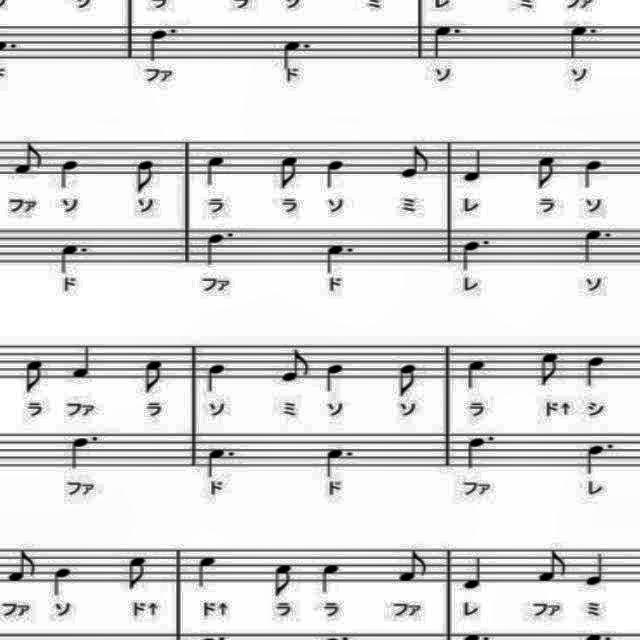Eighth-note: (394, 542, 434, 586), (4, 546, 40, 592), (12, 139, 50, 181), (278, 345, 314, 387), (536, 545, 570, 587), (21, 352, 49, 400), (274, 151, 306, 191), (394, 358, 424, 400), (398, 143, 430, 181), (535, 350, 565, 390), (132, 156, 160, 197), (124, 551, 148, 595), (532, 152, 558, 192), (271, 561, 297, 601), (142, 356, 166, 396)
Quarter-dot: (424, 19, 468, 65), (204, 222, 240, 272), (577, 224, 615, 270), (566, 19, 606, 61), (455, 236, 493, 276), (462, 430, 498, 470), (68, 430, 100, 474), (146, 23, 182, 62), (585, 438, 619, 478), (56, 240, 90, 276), (323, 446, 357, 482), (276, 39, 314, 71), (203, 446, 237, 480), (325, 241, 355, 277)
Quarter-note: (196, 548, 222, 598), (461, 146, 489, 190), (459, 552, 487, 596), (580, 156, 608, 198), (68, 340, 95, 382), (582, 352, 610, 392), (316, 558, 344, 598), (320, 358, 348, 396), (583, 550, 609, 590), (201, 152, 229, 188), (463, 356, 489, 394), (51, 560, 73, 600), (324, 158, 348, 194), (206, 357, 226, 399), (58, 159, 84, 191)
